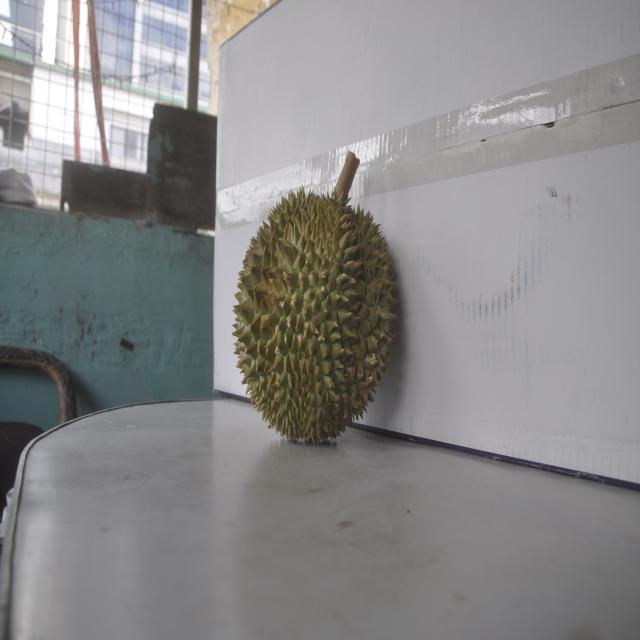mature: (231, 171, 398, 450)
